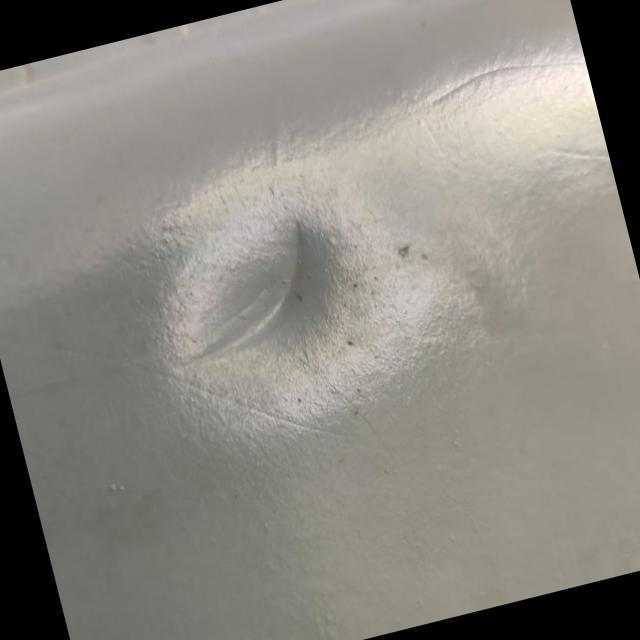dent: (162, 205, 338, 368)
